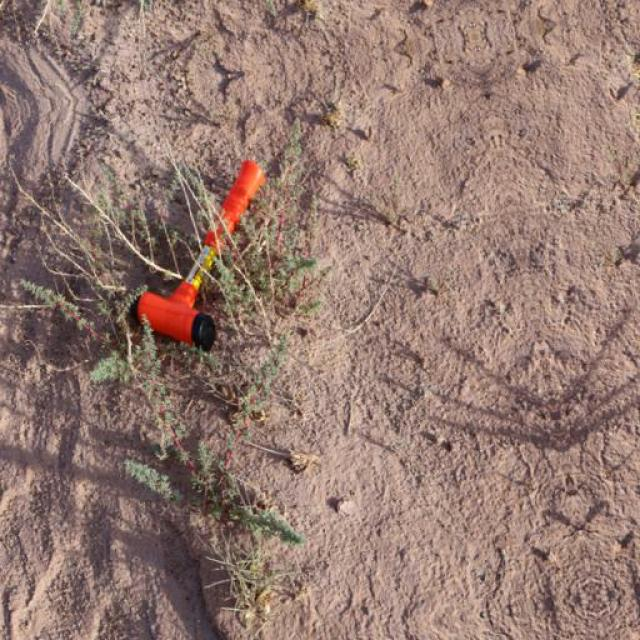mallet: (130, 156, 266, 352)
